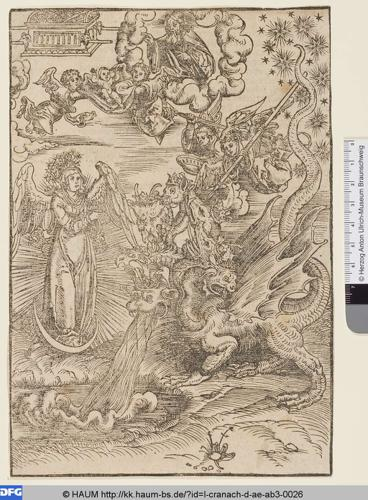angel: (15, 161, 140, 348), (178, 97, 267, 183), (220, 106, 300, 200), (119, 64, 179, 145), (19, 65, 87, 136), (84, 64, 129, 114)
dragon: (120, 195, 327, 418)
lance: (205, 71, 309, 207)
